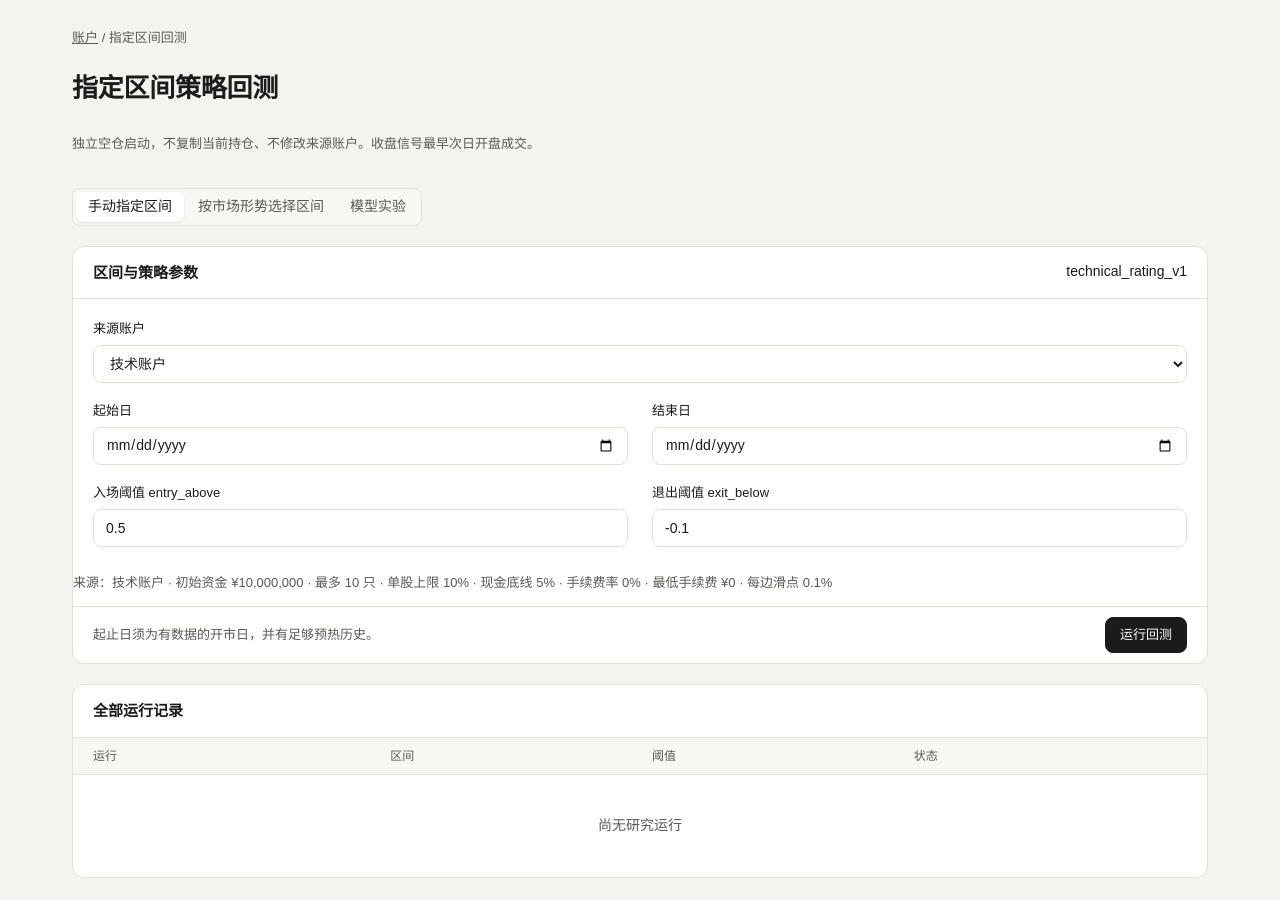
it: 切换到按市场形势模式再切回，手动表单和已填内容都还在
Type "2025-01-10" into the date field labelled "结束日" at (920, 446), box [652,427,1187,465]
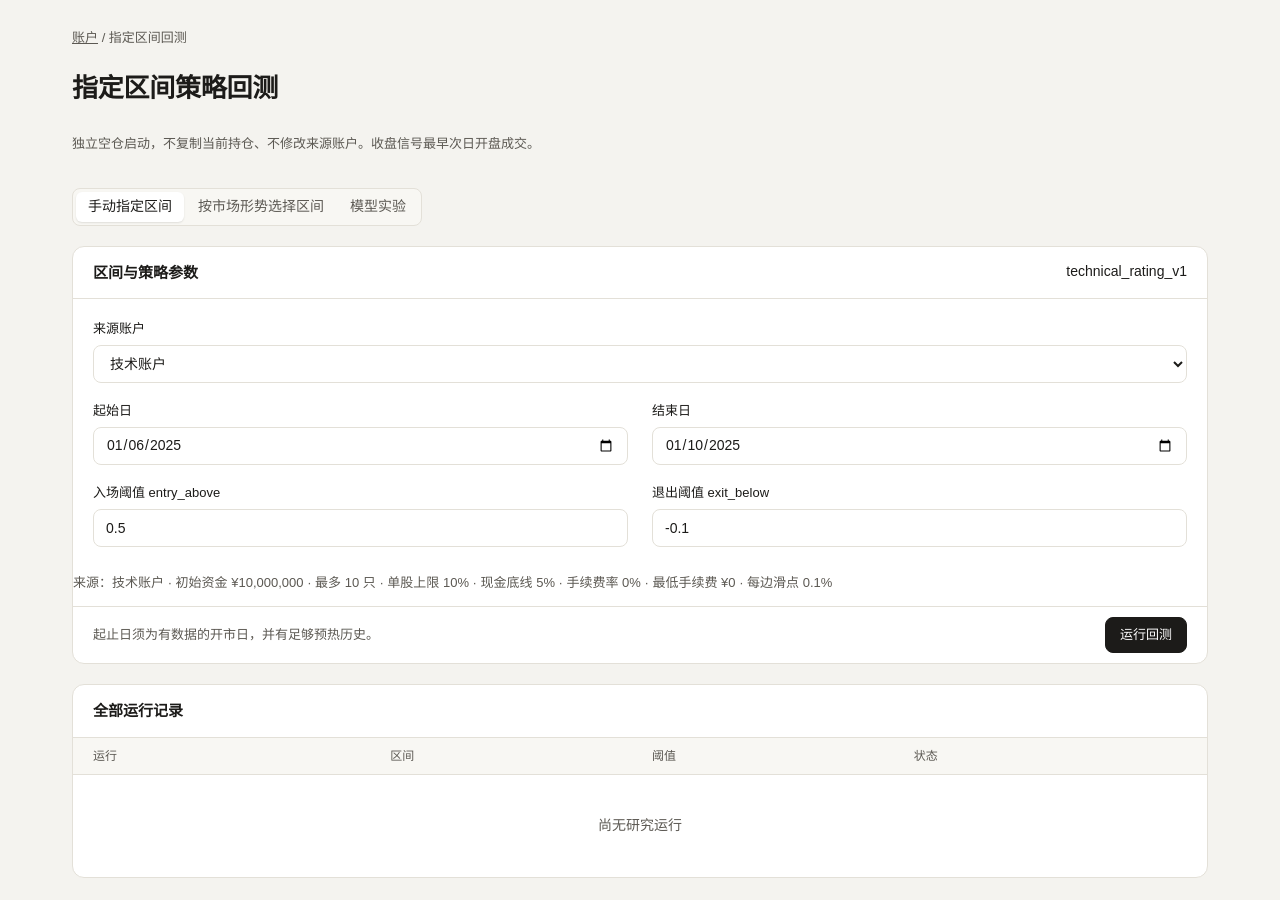
Click the button "按市场形势选择区间" at (261, 207), box [186,192,336,222]
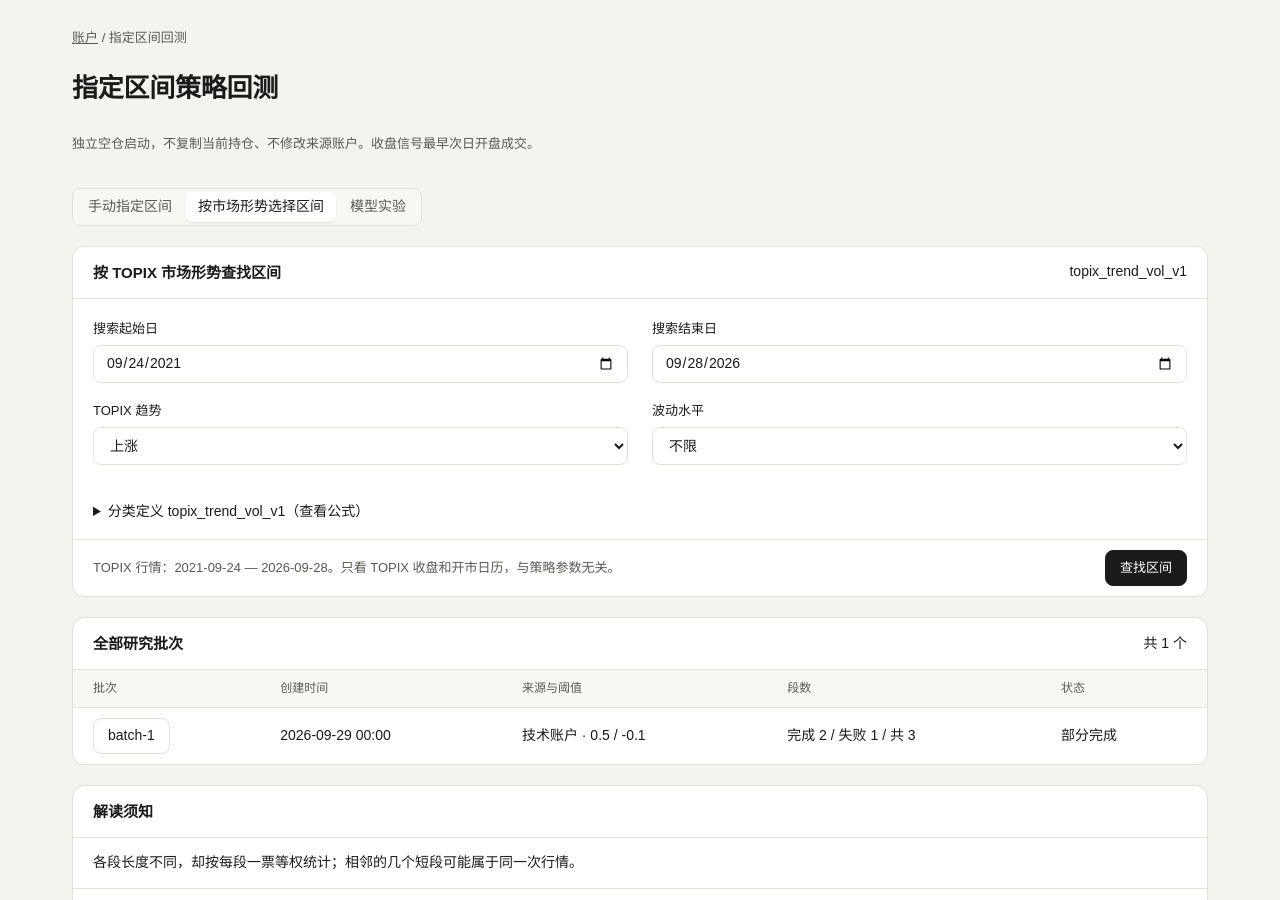
Check: the button "查找区间" is shown, box [1105,550,1187,586]
Check: the button "运行回测" is gone
Click the button "手动指定区间" at (130, 207), box [76,192,184,222]
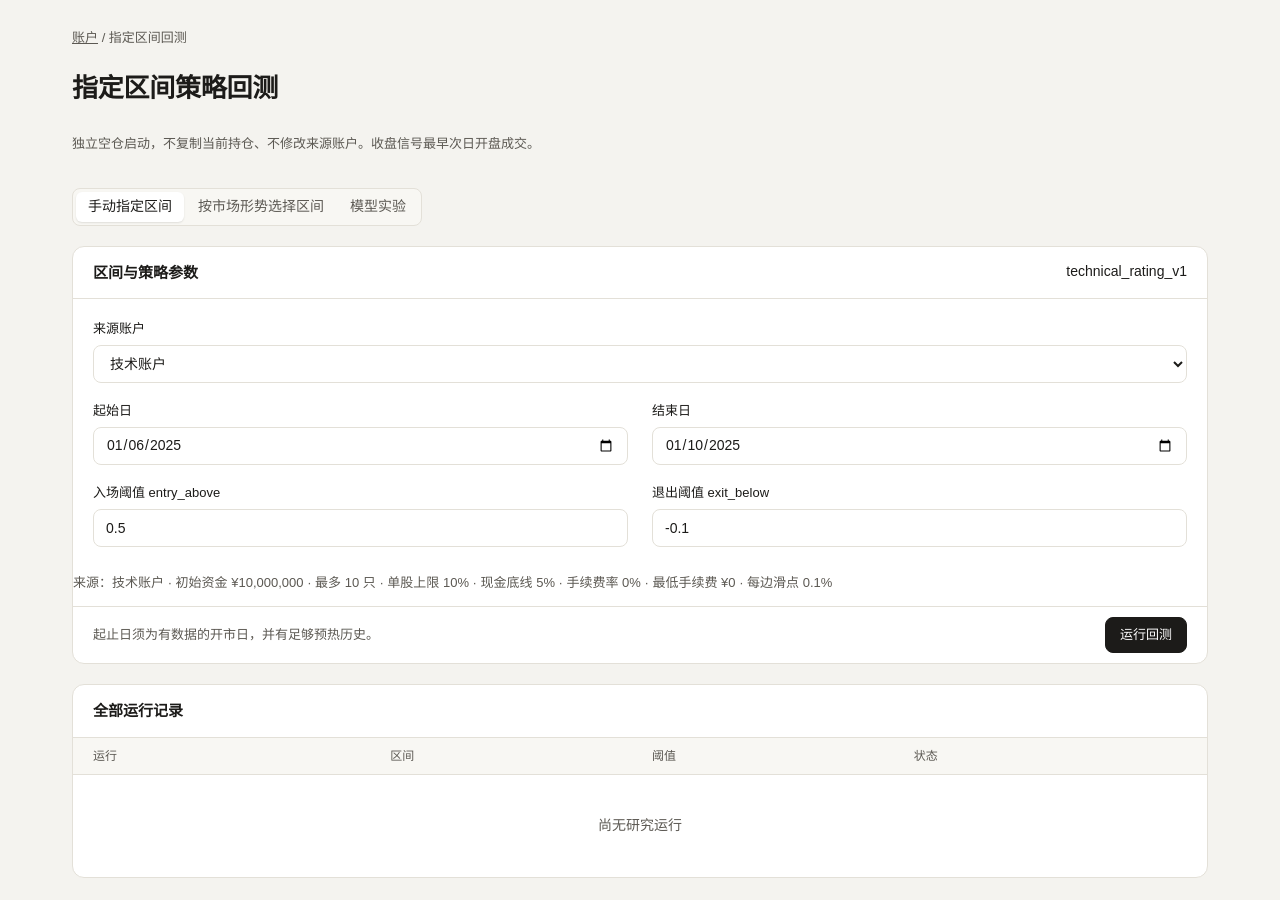
Check: the button "运行回测" is shown, box [1105,617,1187,653]
